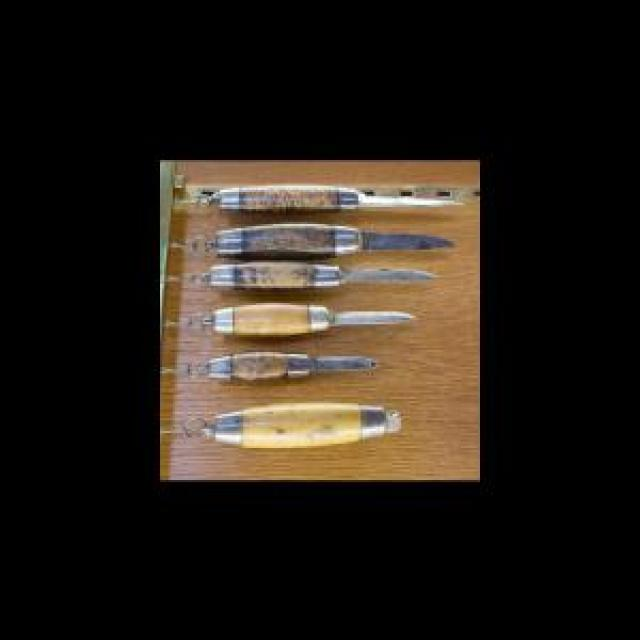knife: (194, 183, 468, 220), (198, 299, 426, 340), (201, 224, 466, 259), (188, 258, 446, 286), (186, 352, 385, 384)
